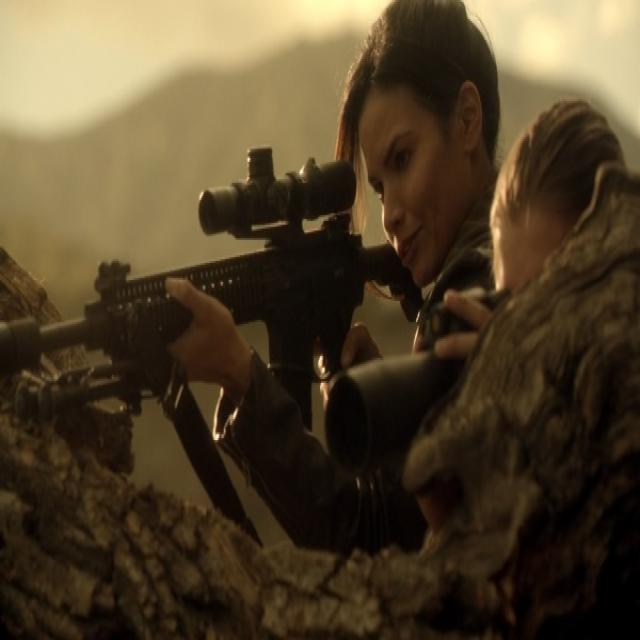rifle: (1, 143, 427, 440)
